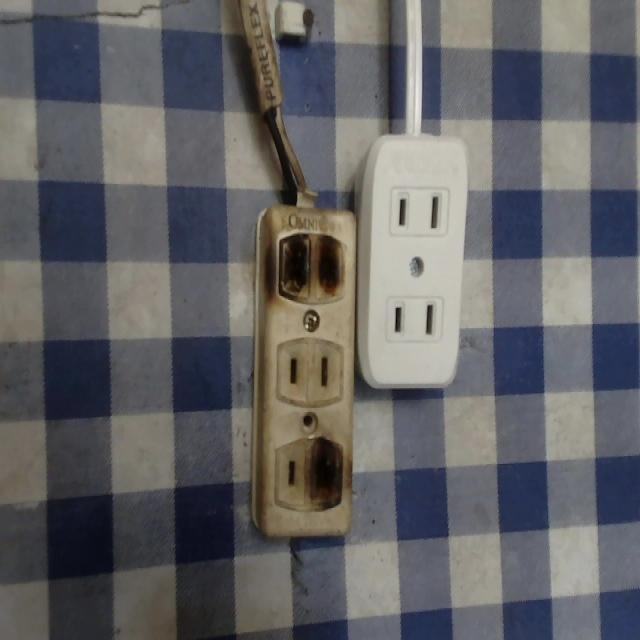-: (271, 228, 348, 307), (304, 437, 347, 520)
